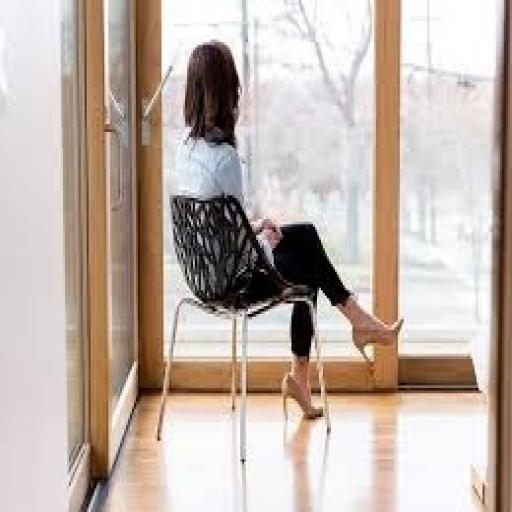sitting: (167, 37, 406, 422)
